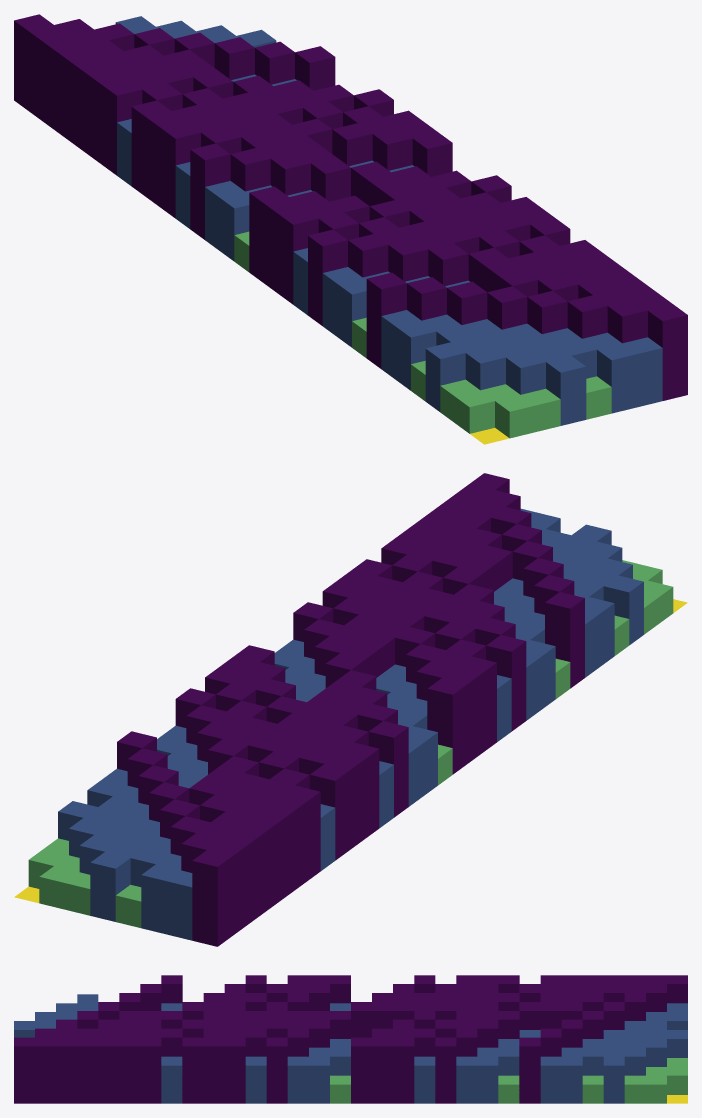
The picture shows the model from 3 angles, top to bottom: view 1: azimuth 30°, elevation 25°; view 2: azimuth 150°, elevation 25°; view 3: azimuth 270°, elevation 25°; orthographic projection. The views are drawn at different scales.
Parts seen in each view (by area): view 1: Object(8,32)[length_3], Object(1,25)[length_3], Object(1,13)[length_3], Object(1,21)[length_3], Object(4,32)[length_2], Object(1,19)[length_3], Object(6,32)[length_2], Object(1,7)[length_3], Object(1,11)[length_3], Object(1,29)[length_2], Object(7,32)[length_2], Object(1,27)[length_2] (+71 smaller); view 2: Object(1,1)[length_3], Object(1,17)[length_3], Object(1,25)[length_3], Object(1,21)[length_3], Object(5,1)[length_2], Object(1,9)[length_3], Object(1,13)[length_3], Object(3,1)[length_2], Object(1,29)[length_2], Object(2,1)[length_2], Object(1,4)[length_3], Object(1,18)[length_3] (+61 smaller); view 3: Object(8,8)[length_3], Object(8,24)[length_3], Object(8,12)[length_3], Object(8,14)[length_3], Object(8,20)[length_3], Object(8,22)[length_3], Object(8,23)[length_3], Object(8,26)[length_3], Object(8,27)[length_3], Object(8,28)[length_3], Object(8,29)[length_3], Object(8,30)[length_3] (+74 smaller).
Boxes of the visible parts, bbox=[...] form: Object(8,32)[length_3]: bbox=[648, 304, 687, 400]; Object(1,25)[length_3]: bbox=[366, 272, 406, 368]; Object(1,13)[length_3]: bbox=[190, 143, 230, 239]; Object(1,21)[length_3]: bbox=[308, 229, 347, 325]; Object(4,32)[length_2]: bbox=[546, 356, 586, 425]; Object(1,19)[length_3]: bbox=[278, 208, 318, 304]; Object(6,32)[length_2]: bbox=[597, 343, 636, 413]; Object(1,7)[length_3]: bbox=[102, 79, 142, 175]; Object(1,11)[length_3]: bbox=[161, 122, 200, 218]; Object(1,29)[length_2]: bbox=[425, 342, 465, 411]; Object(7,32)[length_2]: bbox=[623, 337, 662, 407]; Object(1,27)[length_2]: bbox=[396, 320, 436, 390]; Object(1,1)[length_3]: bbox=[192, 850, 232, 946]; Object(1,17)[length_3]: bbox=[427, 678, 467, 774]; Object(1,25)[length_3]: bbox=[545, 592, 584, 688]; Object(1,21)[length_3]: bbox=[486, 635, 526, 731]; Object(5,1)[length_2]: bbox=[90, 852, 130, 921]; Object(1,9)[length_3]: bbox=[309, 764, 349, 860]; Object(1,13)[length_3]: bbox=[368, 721, 408, 817]; Object(3,1)[length_2]: bbox=[141, 864, 180, 934]; Object(1,29)[length_2]: bbox=[603, 575, 643, 645]; Object(2,1)[length_2]: bbox=[166, 870, 192, 940]; Object(1,4)[length_3]: bbox=[236, 818, 276, 914]; Object(1,18)[length_3]: bbox=[442, 667, 482, 763]; Object(8,8)[length_3]: bbox=[519, 1037, 540, 1103]; Object(8,24)[length_3]: bbox=[182, 1037, 203, 1103]; Object(8,12)[length_3]: bbox=[435, 1037, 456, 1103]; Object(8,14)[length_3]: bbox=[393, 1037, 414, 1103]; Object(8,20)[length_3]: bbox=[266, 1037, 287, 1103]; Object(8,22)[length_3]: bbox=[224, 1037, 245, 1103]; Object(8,23)[length_3]: bbox=[203, 1037, 224, 1103]; Object(8,26)[length_3]: bbox=[140, 1037, 161, 1103]; Object(8,27)[length_3]: bbox=[119, 1037, 140, 1103]; Object(8,28)[length_3]: bbox=[98, 1037, 119, 1103]; Object(8,29)[length_3]: bbox=[77, 1037, 98, 1103]; Object(8,30)[length_3]: bbox=[56, 1037, 77, 1103].
Size of the model in its own units: 8 by 3 by 32.
